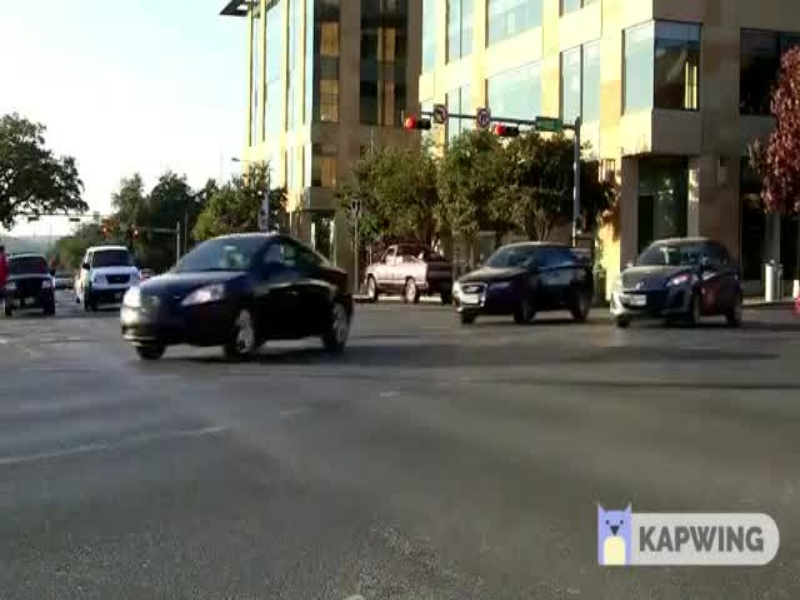car: (118, 230, 357, 374), (603, 234, 747, 332), (449, 237, 599, 324)
suv: (1, 247, 62, 322)
truck: (359, 239, 467, 301)
